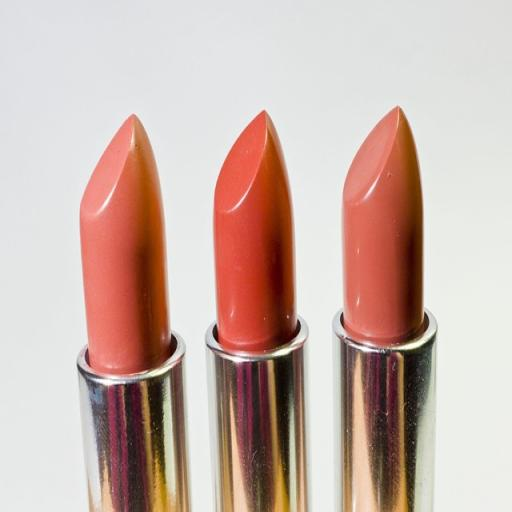lipstick: (78, 116, 188, 510), (333, 107, 436, 510), (206, 112, 307, 511)
